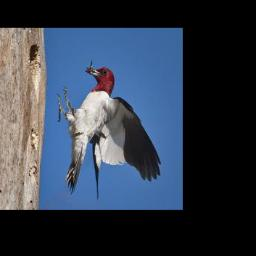Woodpecker: (57, 63, 162, 199)
